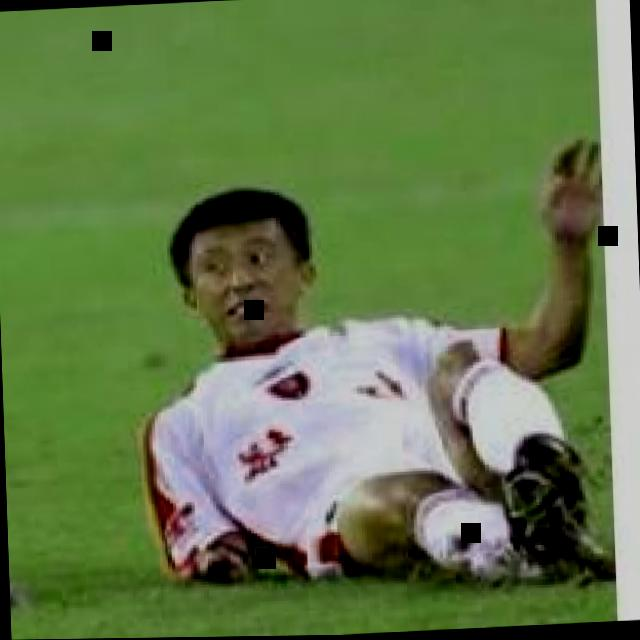Fall-Detected: (135, 107, 600, 604)
